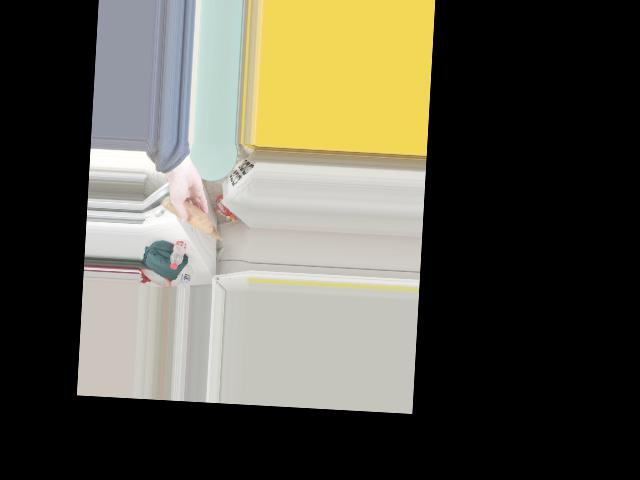sweet_potato: (174, 200, 209, 235)
